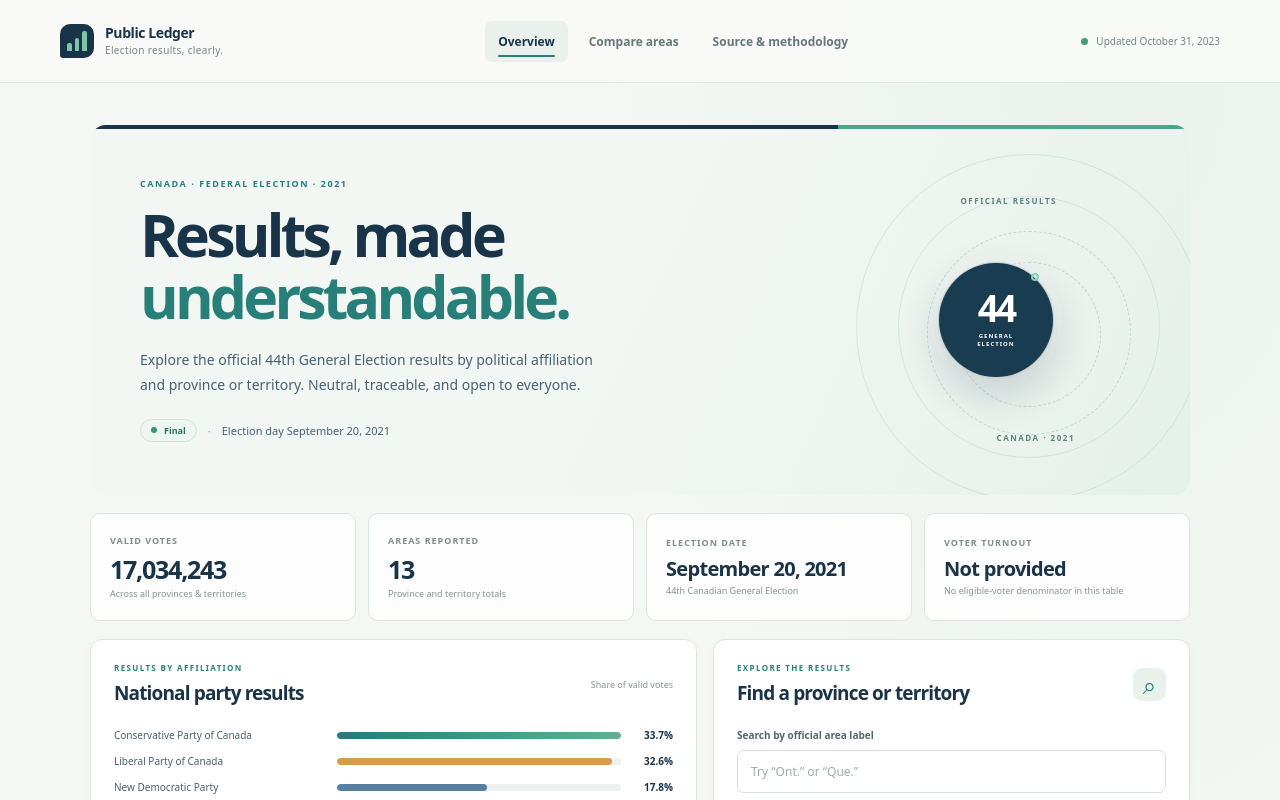
Test case: dashboard routes and states › encodes chosen area IDs into a shareable comparison URL
Expected: the heading "Results, made" is shown, 140,194 -> 568,336
Click the link "Compare areas" at (634, 41), box 589,32 -> 679,50
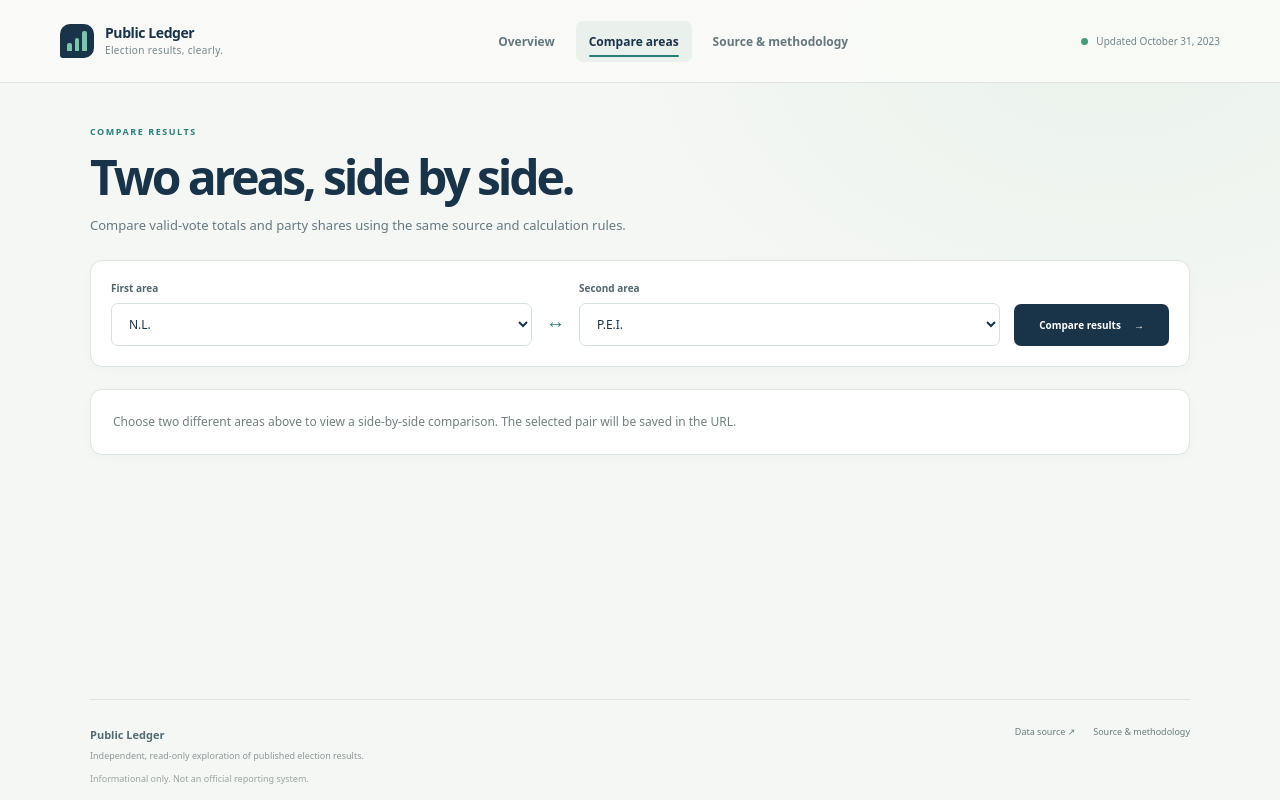
Select "Ont." in the dropdown labelled "First area" at (322, 324), box 111,303 -> 532,346
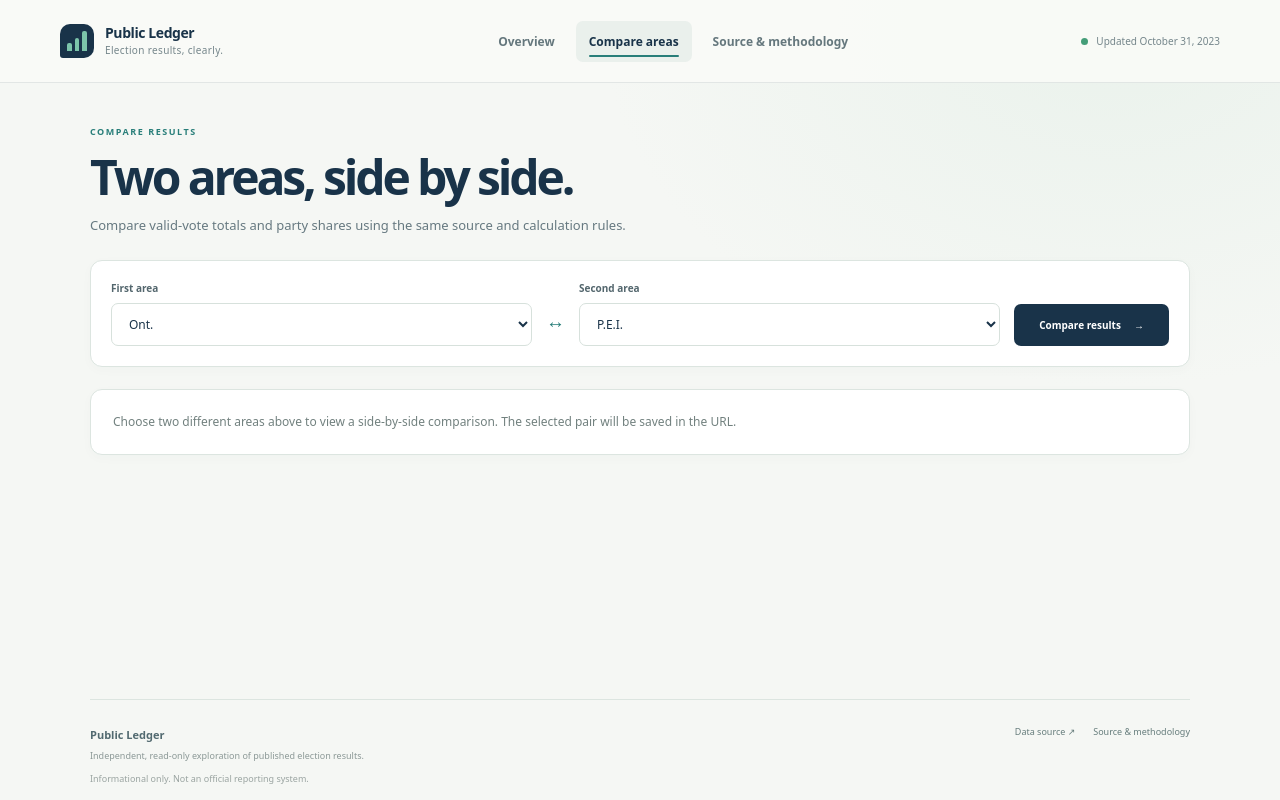
Select "Que." in the dropdown labelled "Second area" at (790, 324), box 579,303 -> 1000,346
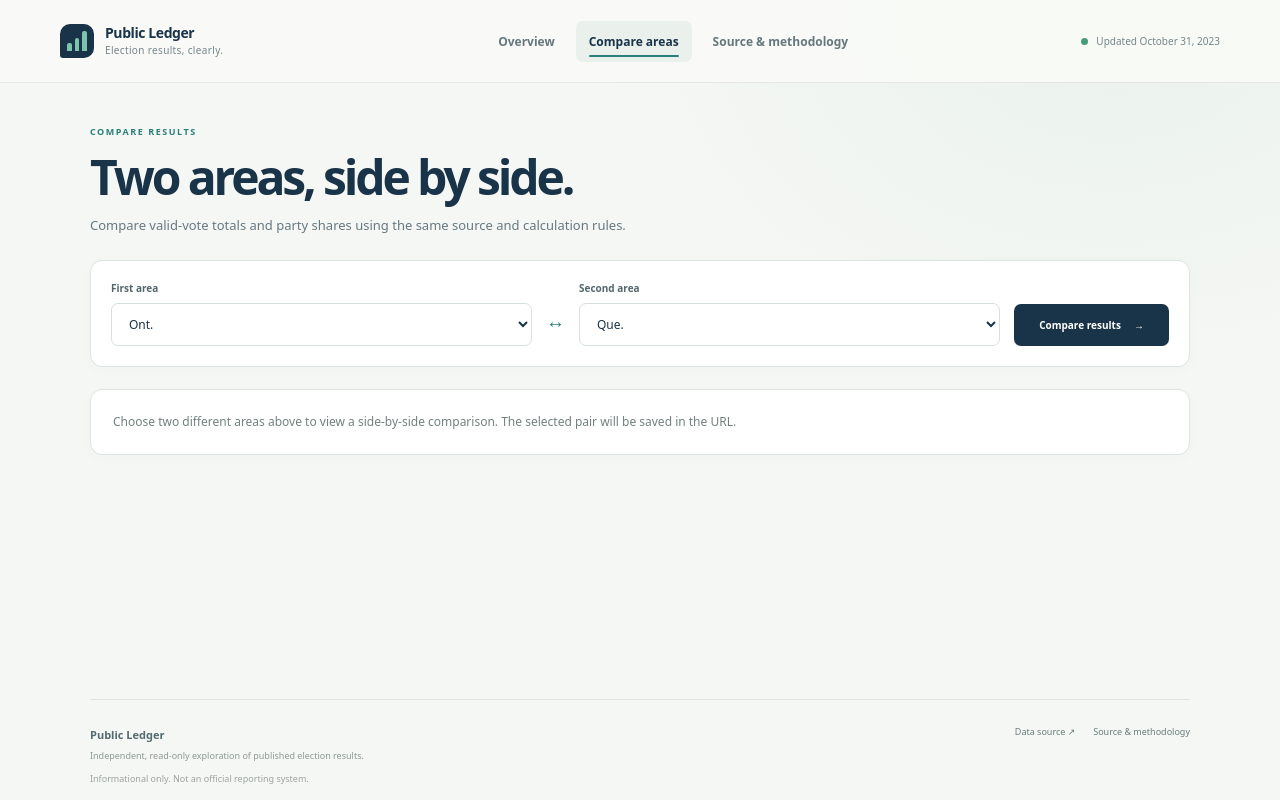
Click the button "Compare results →" at (1092, 325), box 1014,304 -> 1169,346
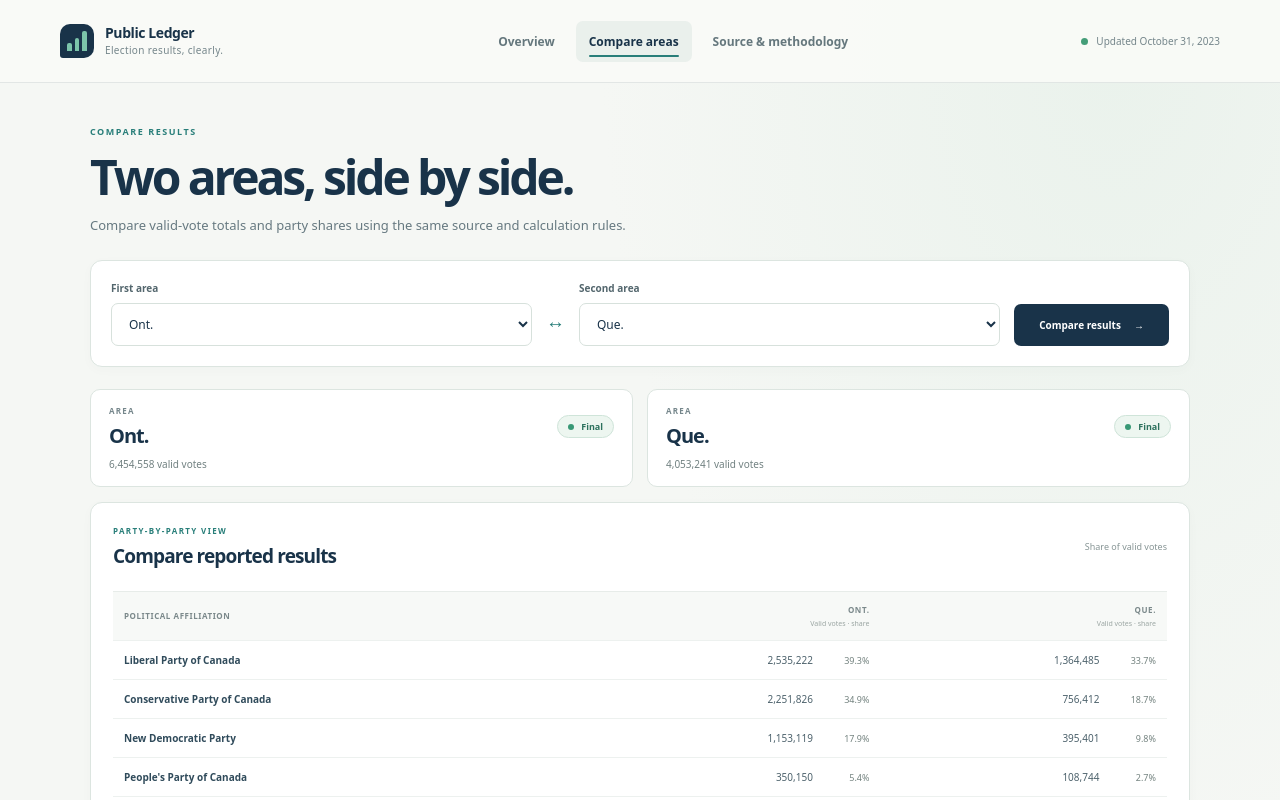
Expected: the heading "Compare reported results" is shown, 113,543 -> 336,569
